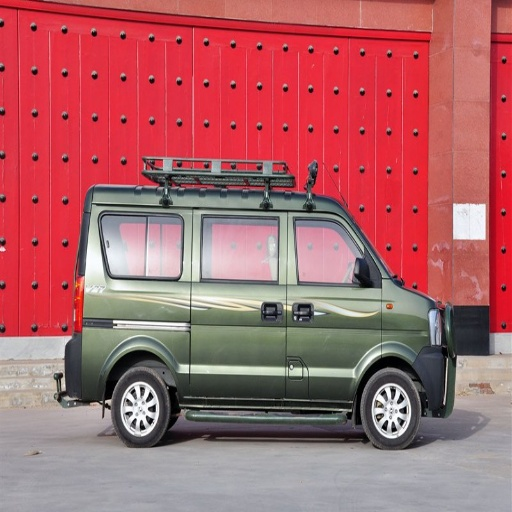back_right_door: (195, 211, 288, 390)
trunk: (80, 280, 188, 398)
